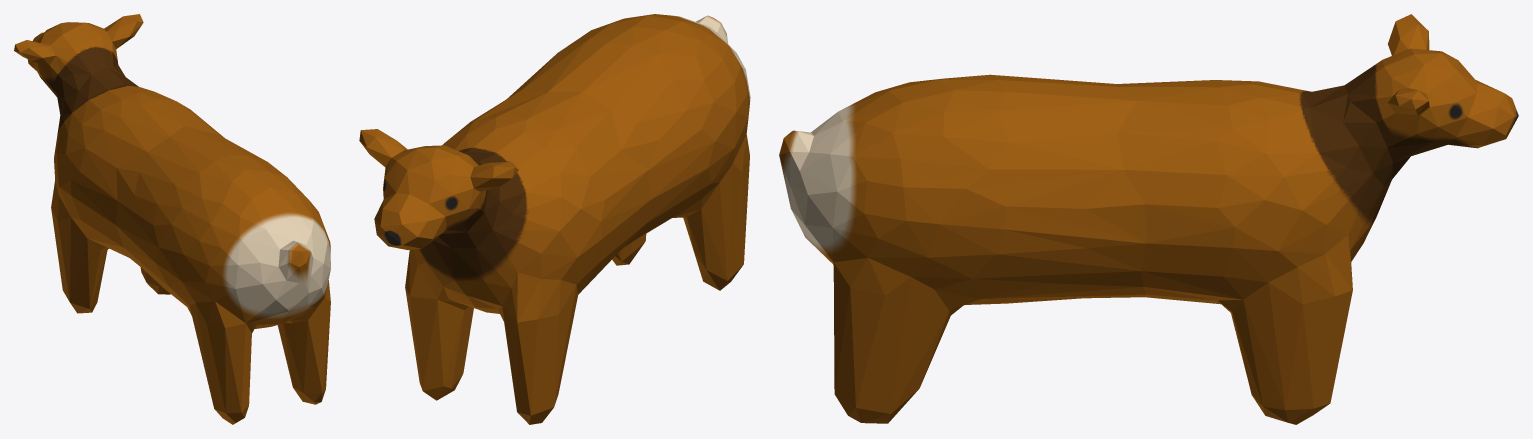
The model's file is animal_elk_female_blob.obj.
The picture shows the model from 3 angles, left to right: view 1: azimuth 30°, elevation 25°; view 2: azimuth 150°, elevation 25°; view 3: azimuth 270°, elevation 25°; orthographic projection. The views are drawn at different scales.
Parts seen in each view (by area): view 1: animal_elk_female_blob; view 2: animal_elk_female_blob; view 3: animal_elk_female_blob.
Boxes of the visible parts, bbox=[...] form: animal_elk_female_blob: bbox=[14, 14, 330, 424]; animal_elk_female_blob: bbox=[359, 14, 750, 424]; animal_elk_female_blob: bbox=[779, 14, 1518, 424].
Bounding box in the file's own units: 0.5089 × 0.828 × 1.62.
